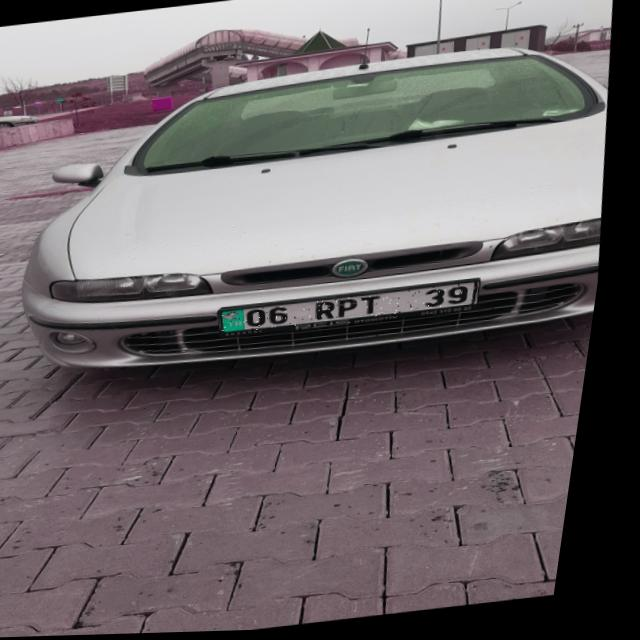license_plate: (225, 284, 487, 336)
